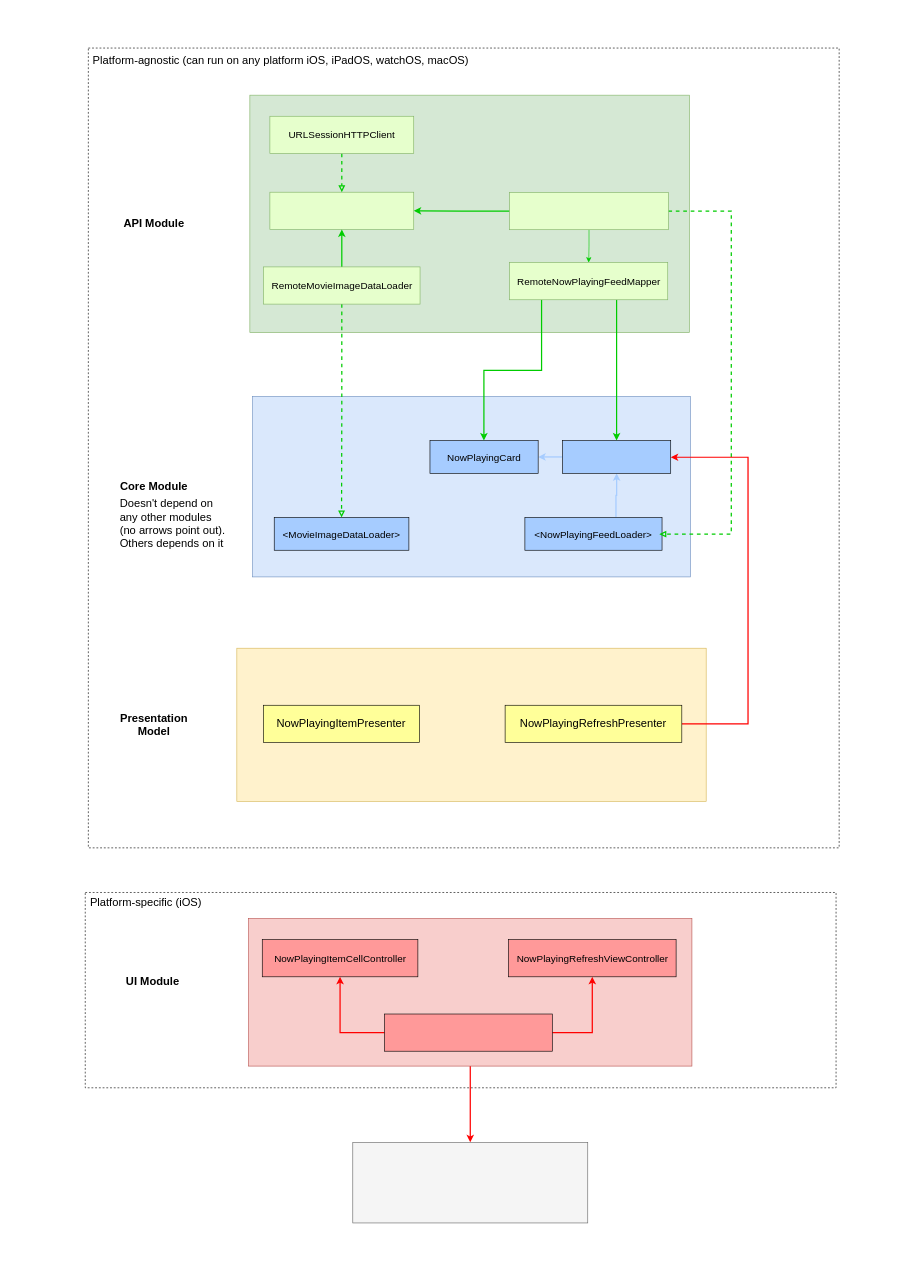
This 922x1270 diagram has some shape labels left out. Here are the shapes that lost their labels. From the top down, the box of each, then its label:
(269, 192, 414, 229): <HTTPClient>
(509, 192, 668, 230): RemoteNowPlayingFeedLoader
(562, 440, 671, 473): NowPlayingFeed
(384, 1013, 552, 1051): NowPlayingFeedViewController
(352, 1142, 588, 1223): UIKit
